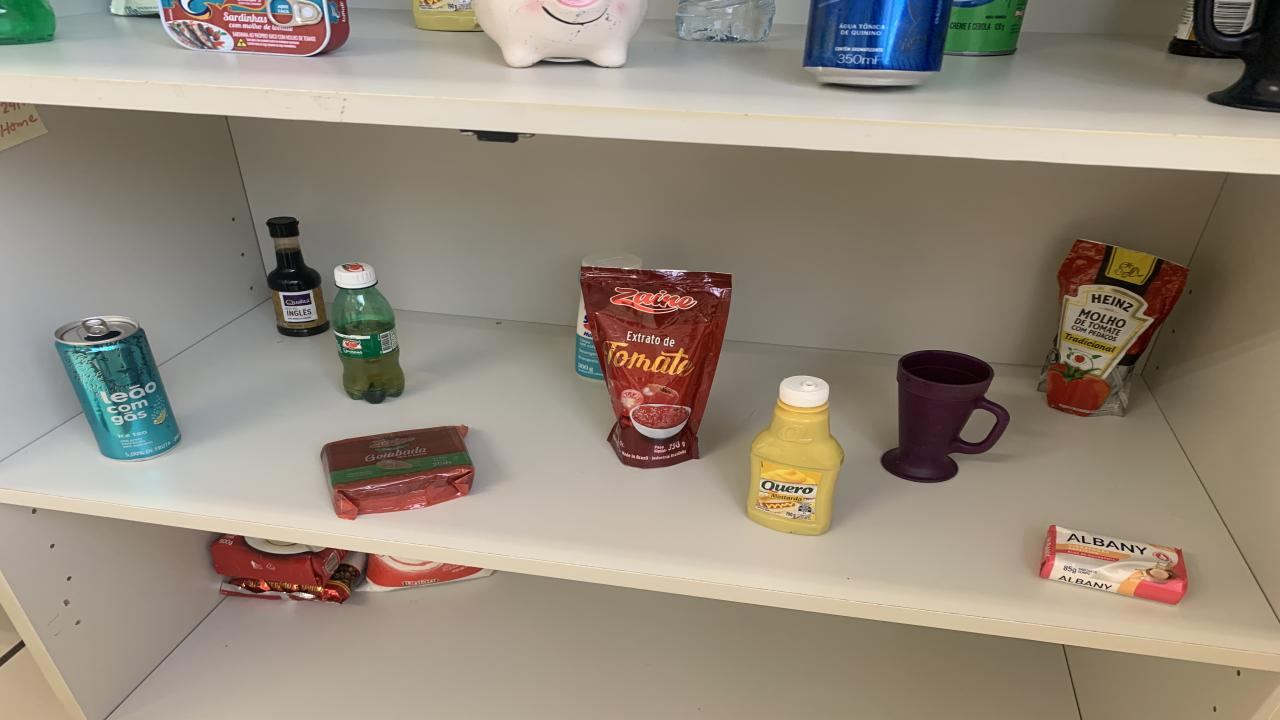Cleaner-Cleanup_Items: (575, 294, 605, 381), (582, 253, 642, 268)
English_Sauce-Pantry_Items: (268, 218, 330, 336), (1168, 0, 1232, 58), (1212, 0, 1255, 34)
Flakes-Snacks: (110, 0, 158, 17)
Guarana-Drinks: (330, 262, 405, 403)
Guava-Snacks: (320, 426, 475, 519)
Mustard-Pantry_Items: (748, 375, 845, 534), (412, 0, 482, 32)
Pig_Safe-Miscellaneous: (475, 0, 648, 68)
Pringles-Snacks: (945, 0, 1028, 56)
Soap-Cleanup_Items: (1040, 525, 1188, 604)
Tea-Drinks: (55, 317, 180, 461)
Tomato_Sauce-Pantry_Items: (580, 266, 732, 469), (1038, 240, 1188, 416)
Tonic-Drinks: (802, 0, 952, 86)
Tuna_Can-Pantry_Items: (160, 0, 350, 56)
Water_Bottle-Drinks: (675, 0, 775, 43)
